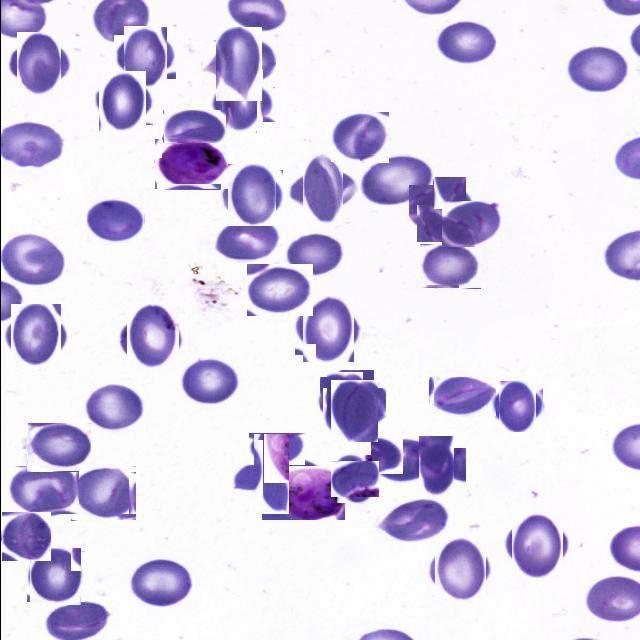difficult: (261, 466, 344, 520), (153, 139, 227, 190)
red blood cell: (121, 308, 182, 369), (359, 154, 432, 204), (208, 34, 268, 94), (70, 466, 135, 521), (372, 498, 448, 544), (246, 264, 312, 316), (507, 516, 566, 574), (298, 300, 357, 358), (430, 540, 488, 598), (241, 445, 299, 503), (8, 466, 78, 514), (177, 357, 242, 408), (412, 180, 469, 238), (564, 43, 628, 94), (127, 558, 192, 608), (7, 308, 64, 364), (223, 166, 279, 222), (26, 423, 90, 472), (370, 438, 436, 485), (82, 384, 144, 434), (322, 373, 378, 428), (294, 162, 349, 218), (326, 384, 381, 439), (211, 219, 279, 263), (434, 18, 496, 66), (94, 74, 148, 128), (11, 37, 65, 91), (28, 550, 82, 604), (330, 112, 388, 162), (215, 75, 268, 128), (118, 31, 171, 84), (418, 244, 480, 289), (441, 201, 500, 247), (428, 376, 495, 416), (284, 230, 343, 275), (85, 199, 143, 244), (1, 512, 50, 561), (411, 442, 459, 490), (162, 110, 226, 144), (494, 384, 538, 428), (333, 458, 376, 500), (248, 433, 304, 465)
